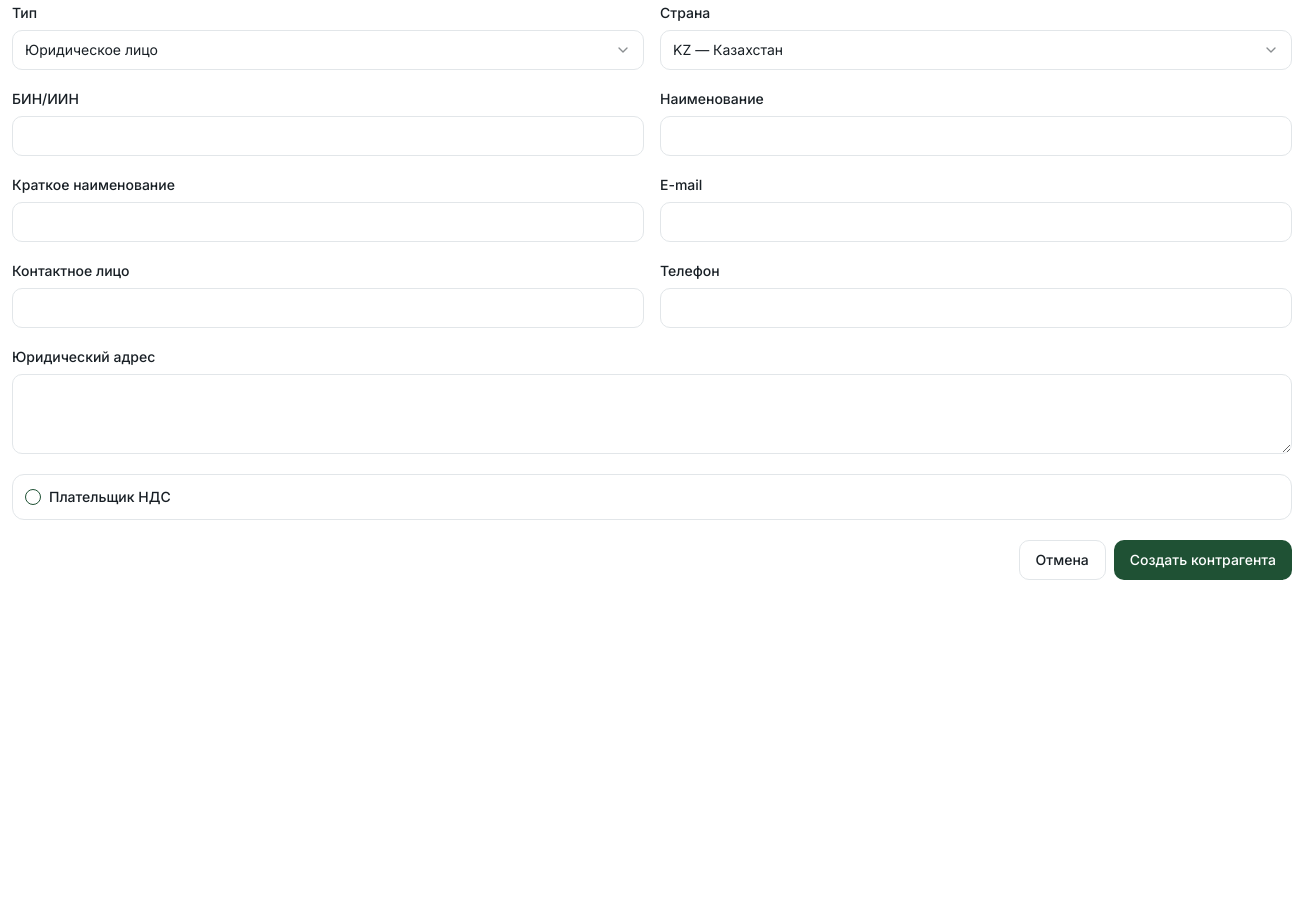
Test: CounterpartyForm — создание › дубль E-CTR-02 — текст сервера и ссылка на существующего
The width and height of the screenshot is (1304, 900).
Type "ТОО «Альфа-2»" into the field labelled "Наименование" at (976, 136), box [660,116,1292,156]
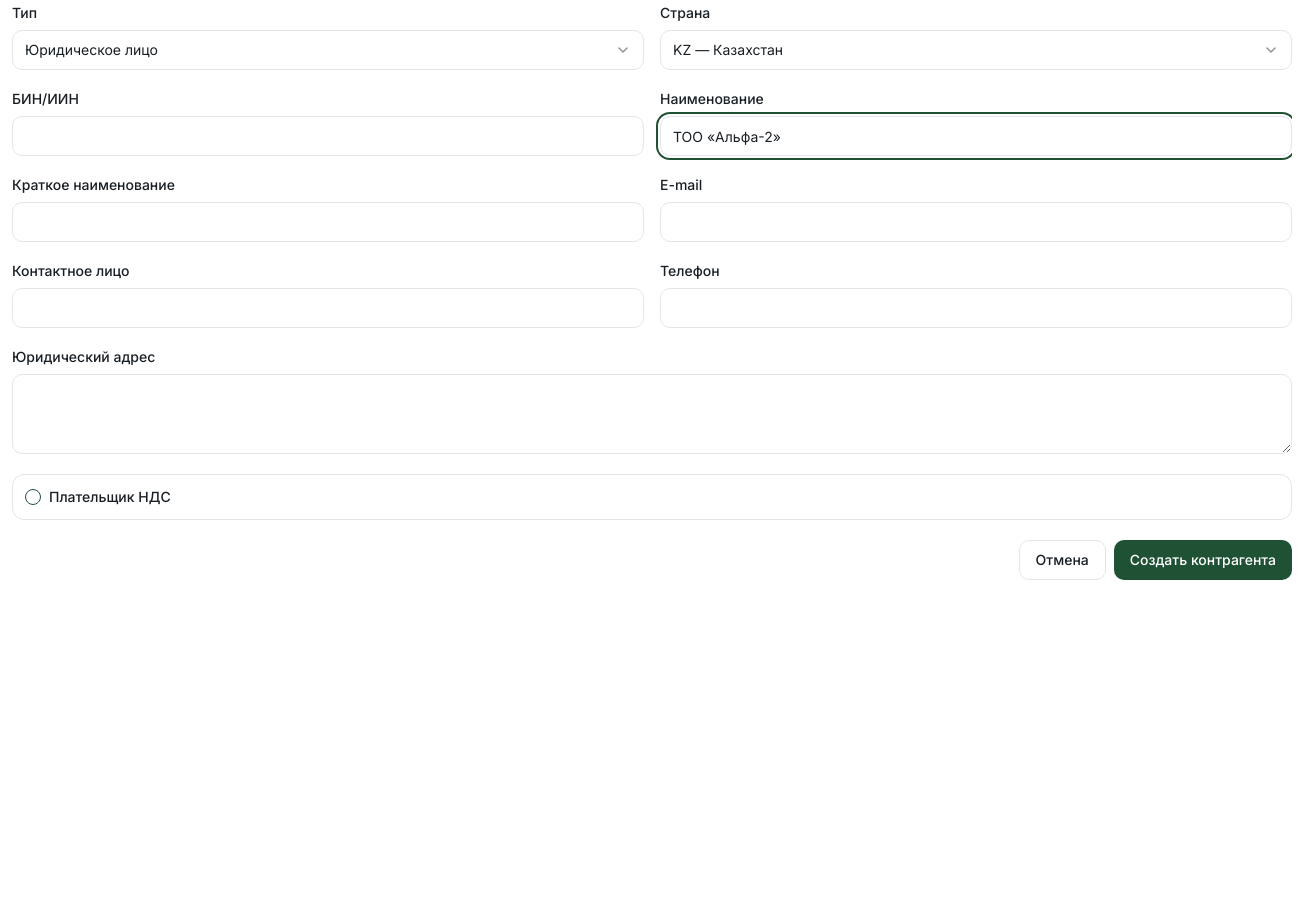
Type "100000000001" into the field labelled "БИН/ИИН" at (328, 136), box [12,116,644,156]
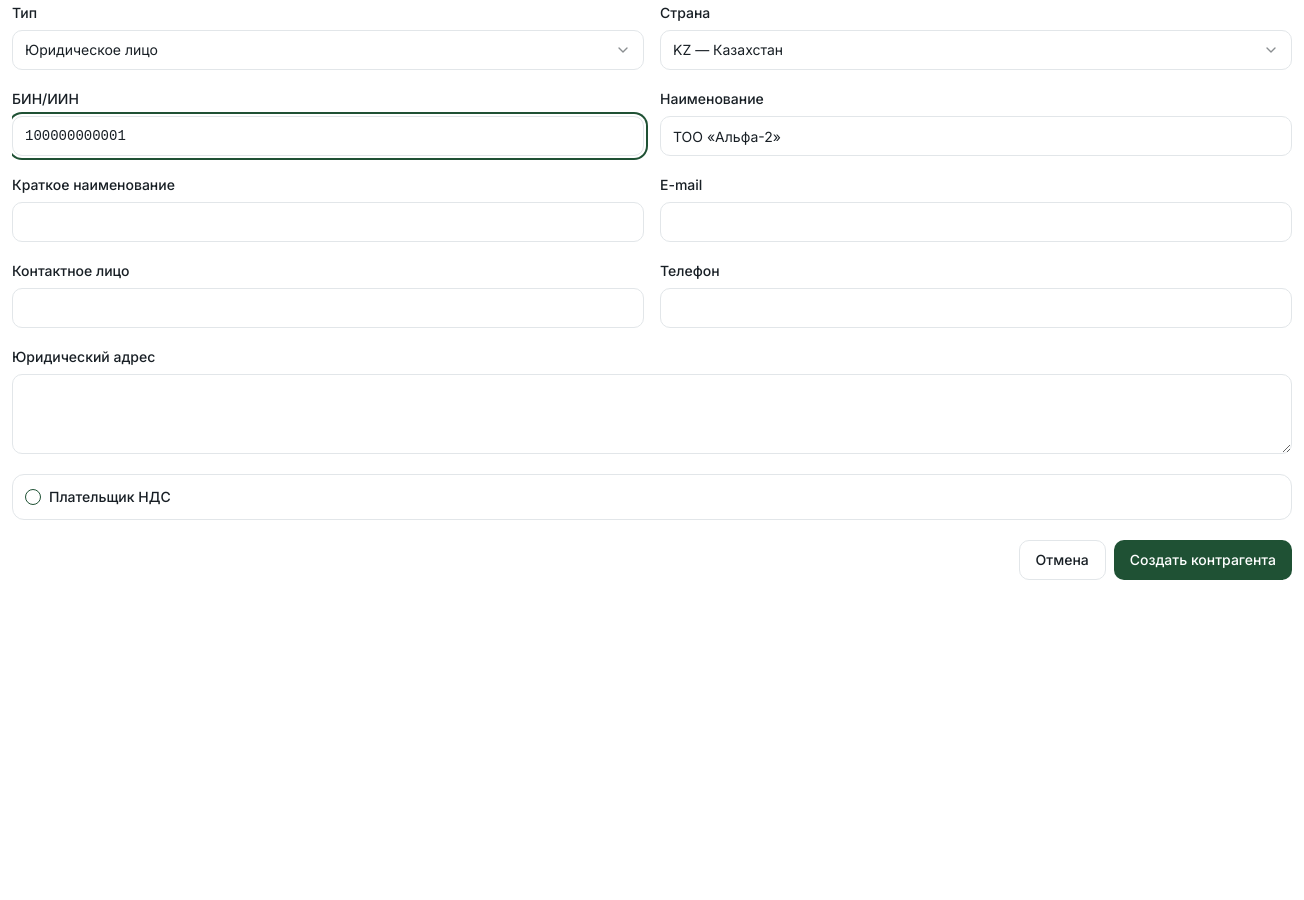
Click the button "Создать контрагента" at (1203, 560), box [1114,540,1292,580]
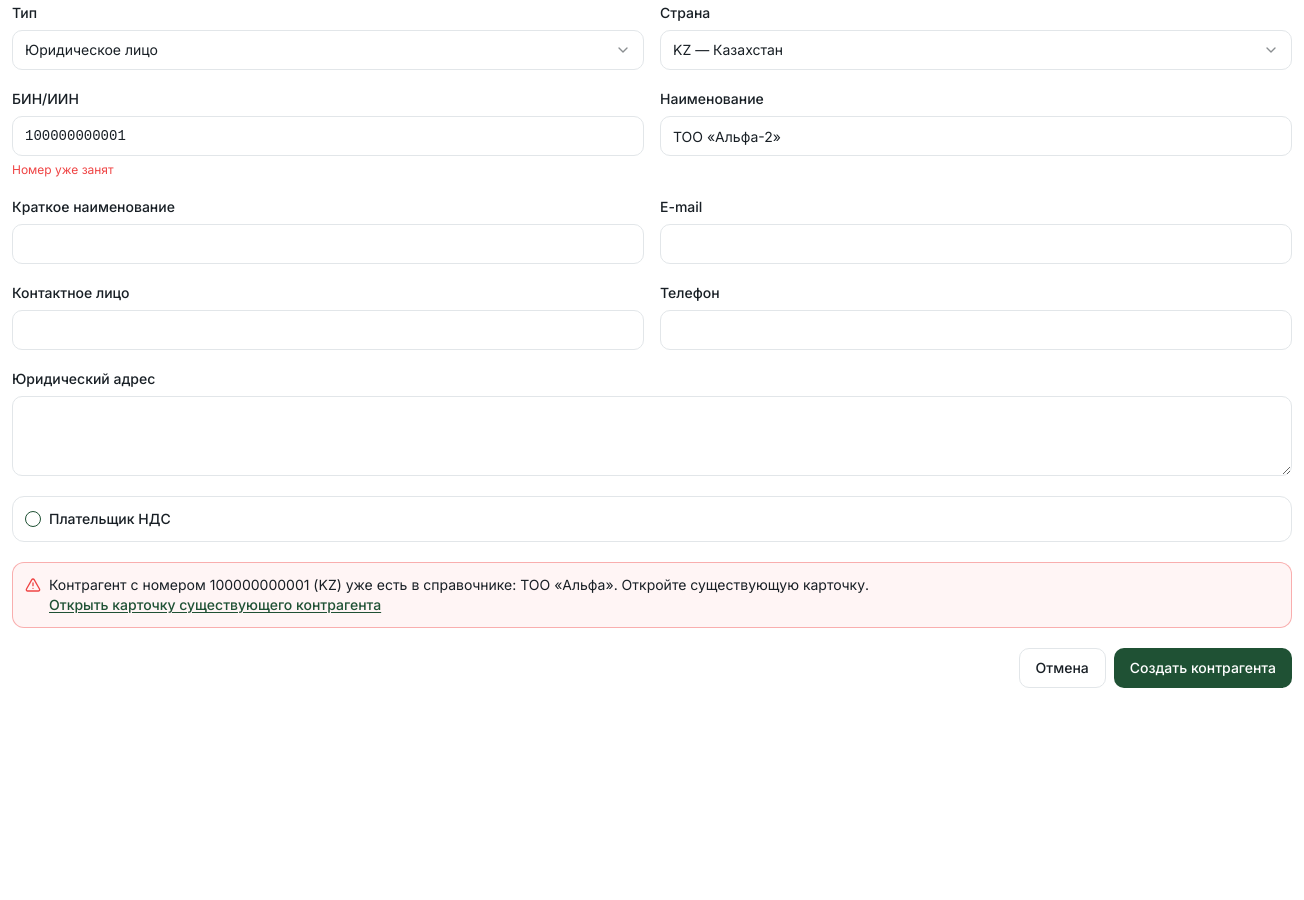
Expected: the text "Номер уже занят" is shown, [12,162,114,177]
